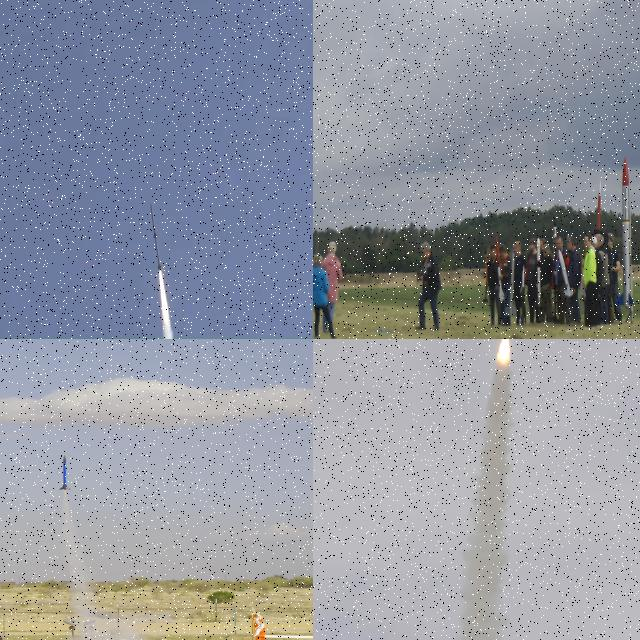Rocket: (616, 157, 634, 307), (150, 203, 164, 272), (558, 250, 574, 298), (506, 250, 516, 314), (496, 235, 504, 302), (536, 238, 542, 307), (59, 454, 70, 491), (482, 248, 488, 303), (597, 179, 601, 244), (553, 214, 557, 270), (522, 264, 524, 287)
